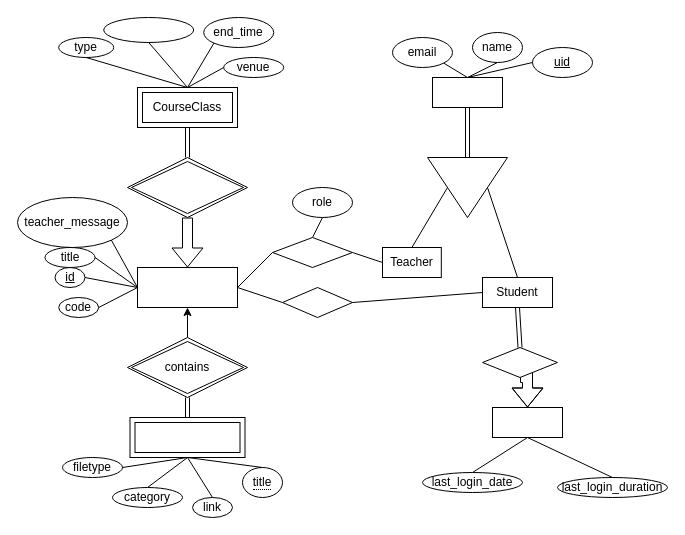
Image size: 685x535. Some labels were removed from this diagram. The centre of each missing label's shape, as x and y in pixels:
"Account" goes at [527,422].
"Course" goes at [187,287].
"CourseResource" goes at [187,437].
"creates" goes at [520,362].
"enrolls" goes at [317,302].
"has" goes at [187,187].
"ISA" goes at [467,187].
"Person" goes at [467,92].
"start_time" goes at [148,29].
"teaches" goes at [312,252].
